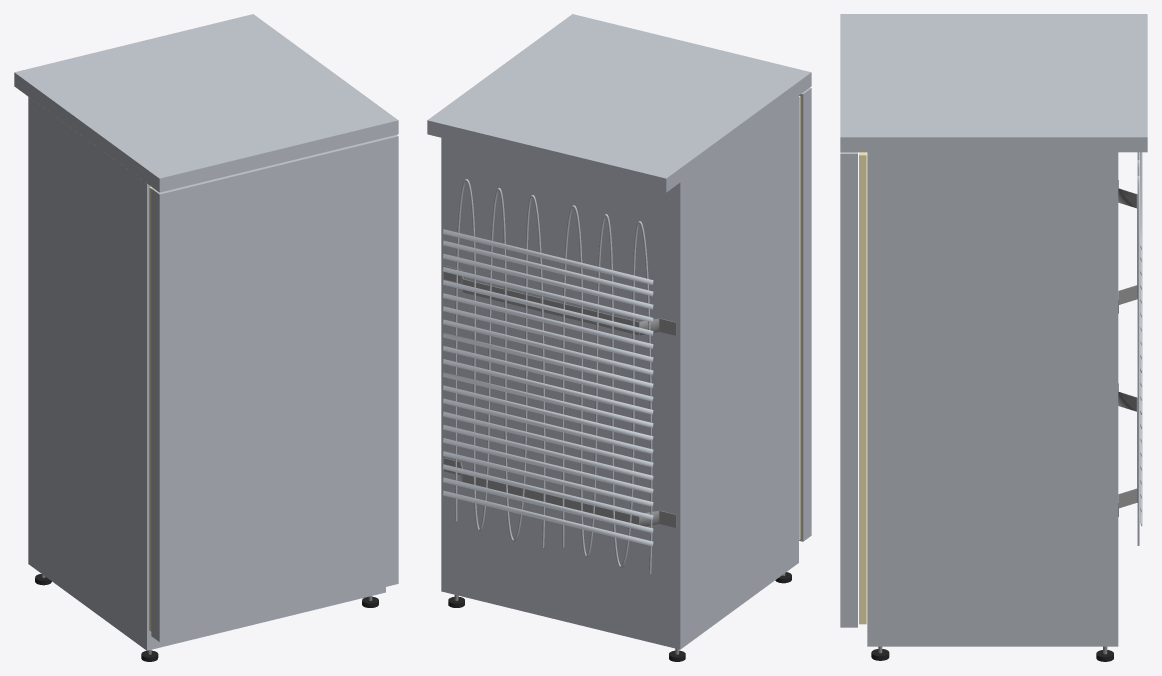
The model's file is contributions-frigo.glb.
3 renders of one model, left to right at view 1: azimuth 30°, elevation 25°; view 2: azimuth 150°, elevation 25°; view 3: azimuth 270°, elevation 25°, orthographic. The views are drawn at different scales.
Parts seen in each view (by area): view 1: Cube_4_3, Cube_1_1, Cube_2_2, Cube_4_1_12; view 2: Cube_1_1, Cube_2_2, Cube_4_3, Tube_1_13, Tube_1_1_14, Cube_8_36, Cube_8_9_45, Cube_6_15, Cube_6_7_22, Cube_6_13_28, Cube_6_14_29, Cube_6_19_34 (+17 smaller); view 3: Cube_1_1, Cube_2_2, Cube_4_3, Cube_4_1_12, Tube_1_1_14.
Part boxes in pixels (box(x1,y1,x2,y2)): Cube_4_3: box(151, 135, 398, 641); Cube_1_1: box(28, 97, 385, 650); Cube_2_2: box(14, 14, 398, 192); Cube_4_1_12: box(149, 186, 152, 631); Cube_1_1: box(441, 96, 798, 649); Cube_2_2: box(427, 14, 811, 192); Cube_4_3: box(799, 87, 811, 541); Tube_1_13: box(562, 205, 652, 573); Tube_1_1_14: box(455, 179, 545, 547); Cube_8_36: box(463, 279, 639, 335); Cube_8_9_45: box(463, 474, 639, 524); Cube_6_15: box(443, 490, 653, 546); Cube_6_7_22: box(443, 411, 653, 467); Cube_6_13_28: box(443, 332, 653, 388); Cube_6_14_29: box(443, 319, 653, 375); Cube_6_19_34: box(443, 253, 653, 309); Cube_1_1: box(867, 152, 1118, 646); Cube_2_2: box(840, 14, 1147, 152); Cube_4_3: box(840, 152, 857, 627); Cube_4_1_12: box(859, 152, 866, 624); Tube_1_1_14: box(1137, 152, 1139, 545).
Size of the model in its own units: 57 by 113 by 60.04.
